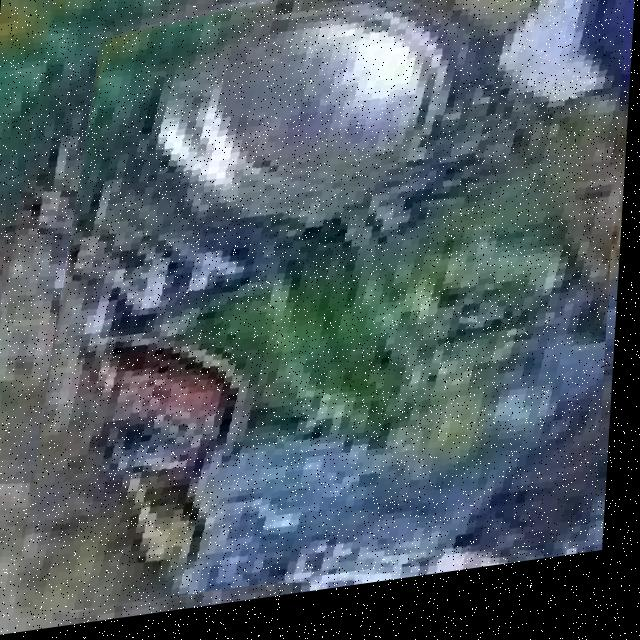can: (75, 0, 613, 602)
